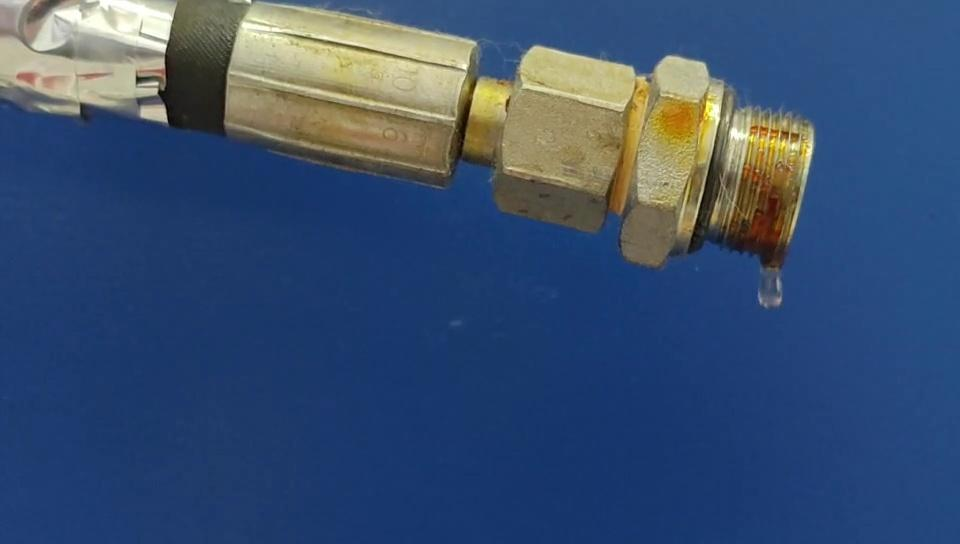water drop: (758, 265, 784, 310)
